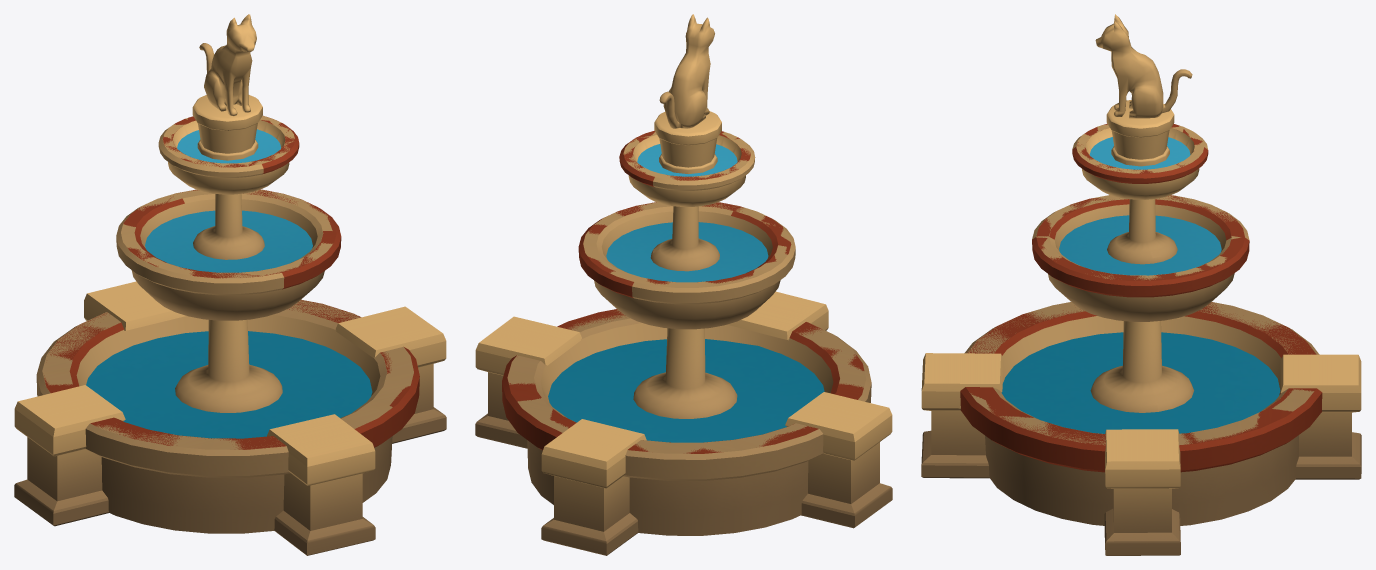
The model's file is fountainnn.fbx.
3 renders of one model, left to right at view 1: azimuth 30°, elevation 25°; view 2: azimuth 150°, elevation 25°; view 3: azimuth 270°, elevation 25°, orthographic. The views are drawn at different scales.
Parts seen in each view (by area): view 1: suihkulahde:fountain1, suihkulahde:fountain2; view 2: suihkulahde:fountain1, suihkulahde:fountain2; view 3: suihkulahde:fountain2, suihkulahde:fountain1.
Boxes of the visible parts, <box> form: suihkulahde:fountain1: <box>14,14,432,555</box>; suihkulahde:fountain2: <box>29,14,446,538</box>; suihkulahde:fountain1: <box>475,14,892,555</box>; suihkulahde:fountain2: <box>475,14,888,555</box>; suihkulahde:fountain2: <box>921,14,1361,555</box>; suihkulahde:fountain1: <box>921,14,1356,542</box>.
Bounding box in the file's own units: 3.05 × 3.4 × 3.05.
